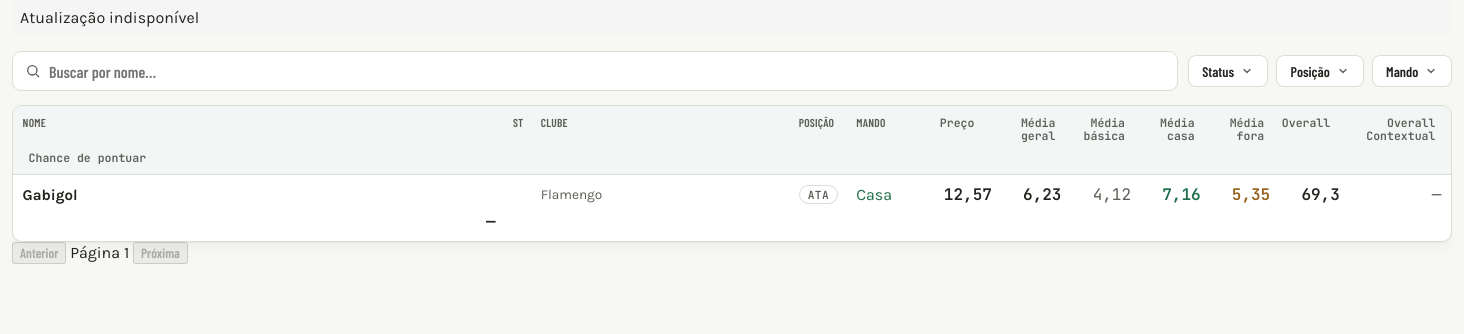
Scenario: Jogadores › renders all position options in position dropdown
Check: the text "Gabigol" is shown, box [23, 186, 78, 204]
Click the button "Posição": {"x": 1320, "y": 71} [1276, 55, 1364, 87]
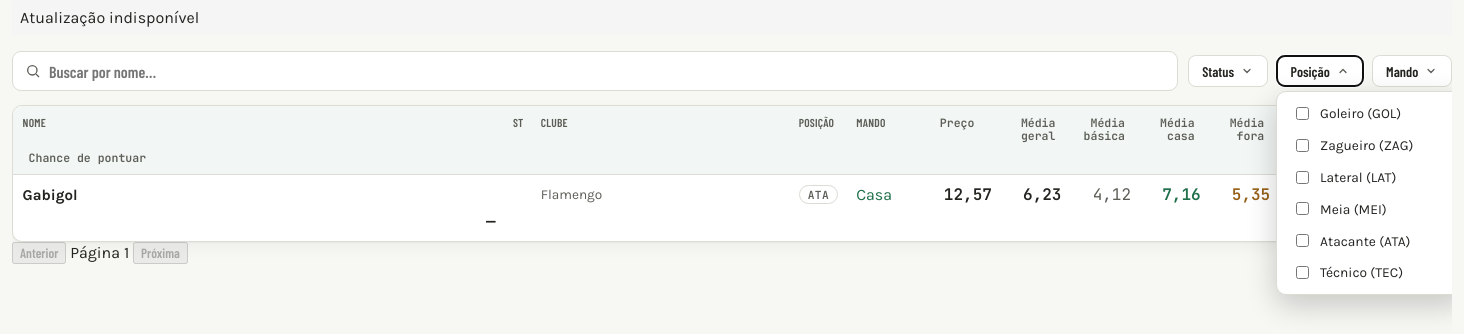
Check: the text "Goleiro (GOL)" is shown, box [1320, 106, 1401, 122]
Check: the text "Zagueiro (ZAG)" is shown, box [1320, 137, 1414, 153]
Check: the text "Lateral (LAT)" is shown, box [1320, 169, 1396, 185]
